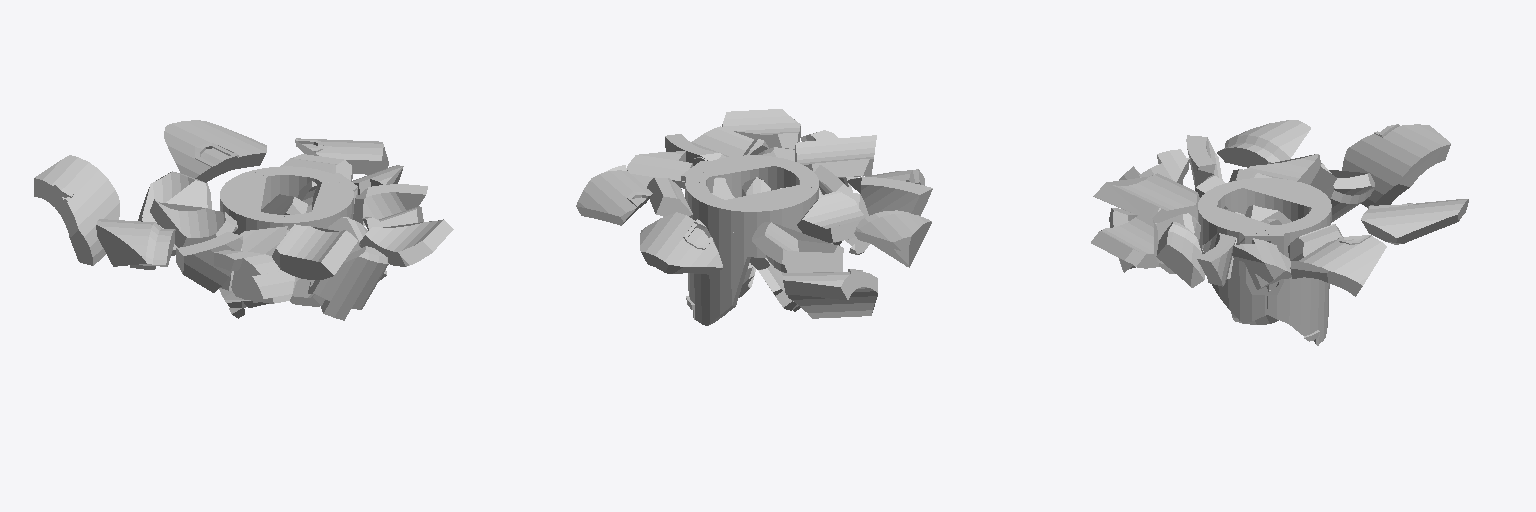
The model's file is destruction_tower_000079.obj.
The picture shows the model from 3 angles: view 1: azimuth 30°, elevation 25°; view 2: azimuth 150°, elevation 25°; view 3: azimuth 270°, elevation 25°; orthographic projection.
Parts seen in each view (by area): view 1: tower.001_cell.003_Mesh.003, tower.001_cell.025_Mesh.025, tower.001_cell.024_Mesh.024, tower.001_cell.011_Mesh.011, tower.001_cell.005_Mesh.005, tower.001_cell.006_Mesh.006, tower.001_cell.021_Mesh.021, tower.001_cell.009_Mesh.009, tower.001_cell.002_Mesh.002, tower.001_cell.007_Mesh.007, tower.001_cell.012_Mesh.012, tower.001_cell.010_Mesh.010 (+11 smaller); view 2: tower.001_cell.017_Mesh.017, tower.001_cell.025_Mesh.025, tower.001_cell.003_Mesh.003, tower.001_cell.015_Mesh.015, tower.001_cell.007_Mesh.007, tower.001_cell.012_Mesh.012, tower.001_cell.005_Mesh.005, tower.001_cell.024_Mesh.024, tower.001_cell.028_Mesh.028, tower.001_cell.009_Mesh.009, tower.001_cell.021_Mesh.021, tower.001_cell.002_Mesh.002 (+8 smaller); view 3: tower.001_cell.003_Mesh.003, tower.001_cell.012_Mesh.012, tower.001_cell.024_Mesh.024, tower.001_cell.025_Mesh.025, tower.001_cell.017_Mesh.017, tower.001_cell.005_Mesh.005, tower.001_cell.015_Mesh.015, tower.001_cell.021_Mesh.021, tower.001_cell.020_Mesh.020, tower.001_cell_Mesh, tower.001_cell.028_Mesh.028, tower.001_cell.007_Mesh.007 (+9 smaller).
Boxes of the visible parts, <box> form: tower.001_cell.003_Mesh.003: <box>34,155,119,265</box>; tower.001_cell.025_Mesh.025: <box>164,120,266,182</box>; tower.001_cell.024_Mesh.024: <box>272,224,357,279</box>; tower.001_cell.011_Mesh.011: <box>311,246,388,320</box>; tower.001_cell.005_Mesh.005: <box>96,219,175,266</box>; tower.001_cell.006_Mesh.006: <box>214,250,294,303</box>; tower.001_cell.021_Mesh.021: <box>359,219,453,266</box>; tower.001_cell.009_Mesh.009: <box>150,199,237,247</box>; tower.001_cell.002_Mesh.002: <box>176,232,242,292</box>; tower.001_cell.007_Mesh.007: <box>130,171,211,269</box>; tower.001_cell.012_Mesh.012: <box>295,138,388,174</box>; tower.001_cell.010_Mesh.010: <box>353,184,427,225</box>; tower.001_cell.017_Mesh.017: <box>685,179,750,325</box>; tower.001_cell.025_Mesh.025: <box>640,212,722,275</box>; tower.001_cell.003_Mesh.003: <box>783,269,877,318</box>; tower.001_cell.015_Mesh.015: <box>721,185,817,257</box>; tower.001_cell.007_Mesh.007: <box>752,222,843,272</box>; tower.001_cell.012_Mesh.012: <box>576,165,652,225</box>; tower.001_cell.005_Mesh.005: <box>854,210,931,267</box>; tower.001_cell.024_Mesh.024: <box>795,135,876,177</box>; tower.001_cell.028_Mesh.028: <box>700,155,808,197</box>; tower.001_cell.009_Mesh.009: <box>797,191,865,242</box>; tower.001_cell.021_Mesh.021: <box>722,109,800,149</box>; tower.001_cell.002_Mesh.002: <box>861,176,932,215</box>; tower.001_cell.003_Mesh.003: <box>1342,124,1450,207</box>; tower.001_cell.012_Mesh.012: <box>1290,235,1386,296</box>; tower.001_cell.024_Mesh.024: <box>1093,173,1199,222</box>; tower.001_cell.025_Mesh.025: <box>1361,199,1468,244</box>; tower.001_cell.017_Mesh.017: <box>1289,205,1331,345</box>; tower.001_cell.005_Mesh.005: <box>1217,120,1310,167</box>; tower.001_cell.015_Mesh.015: <box>1243,178,1331,221</box>; tower.001_cell.021_Mesh.021: <box>1091,213,1158,268</box>; tower.001_cell.020_Mesh.020: <box>1212,231,1270,323</box>; tower.001_cell_Mesh: <box>1156,222,1204,287</box>; tower.001_cell.028_Mesh.028: <box>1198,193,1270,253</box>; tower.001_cell.007_Mesh.007: <box>1310,163,1374,222</box>.
Bounding box in the file's own units: 112 × 44.39 × 121.